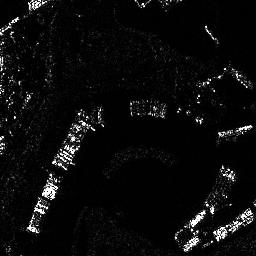ship: (218, 125, 255, 140)
